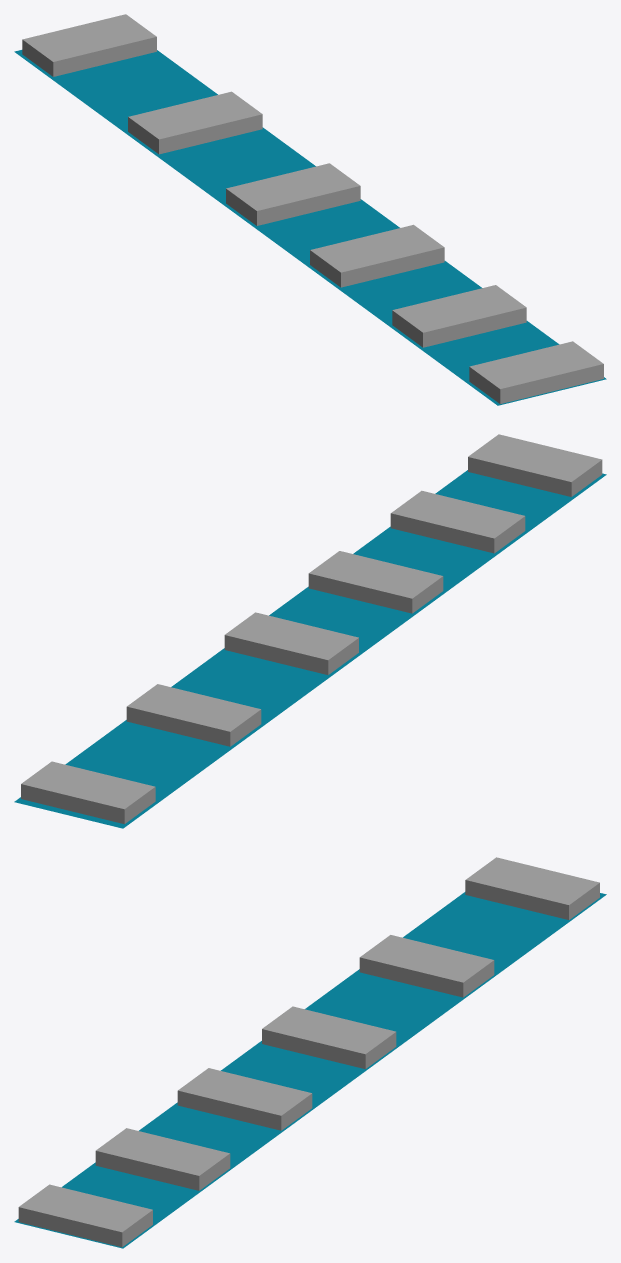
Rendered from move.fbx.
3 renders of one model, top to bottom at view 1: azimuth 30°, elevation 25°; view 2: azimuth 150°, elevation 25°; view 3: azimuth 330°, elevation 25°, orthographic.
Visible parts, largest first — view 1: pPlane2; view 2: pPlane2; view 3: pPlane2.
Part boxes in pixels (x1,y1,x2,y2): pPlane2: (14,14,606,405); pPlane2: (14,434,606,828); pPlane2: (14,857,606,1248).
Size of the model in its own units: 7.26 by 0.9527 by 55.76.
